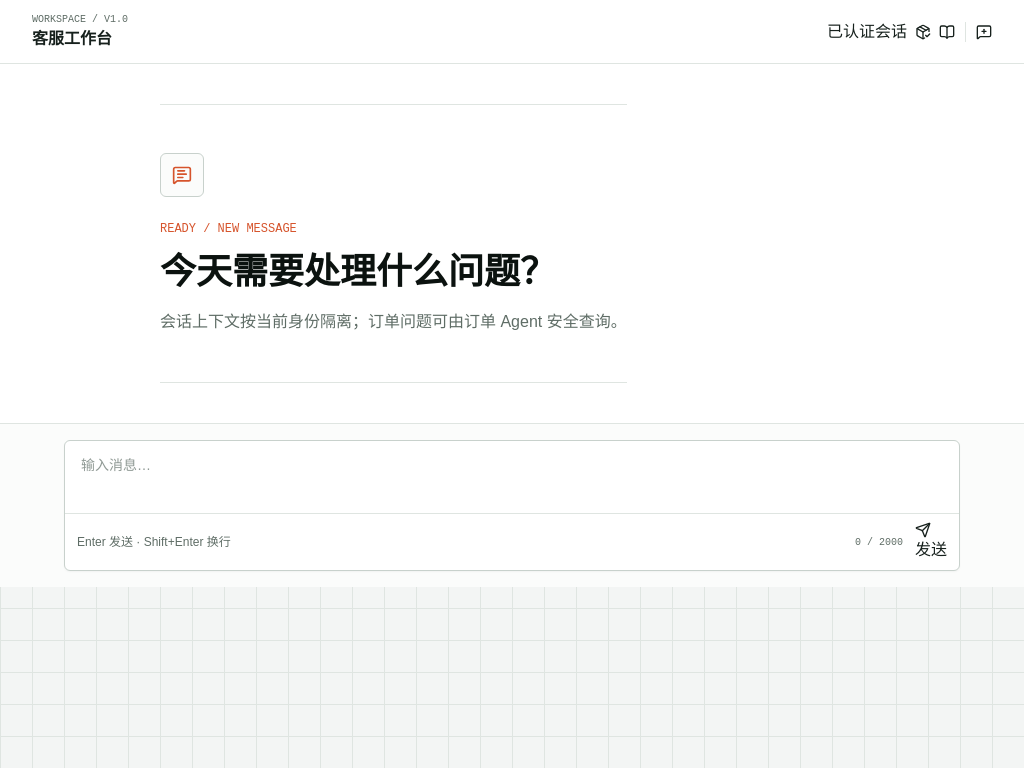
it: ChatWorkspace › disables the composer and prevents duplicate submits while loading
This screenshot has width=1024, height=768.
Type "测试加载状态" into the text box labelled "输入消息".
click(512, 477); type("测试加载状态")  # box [65,441,959,513]
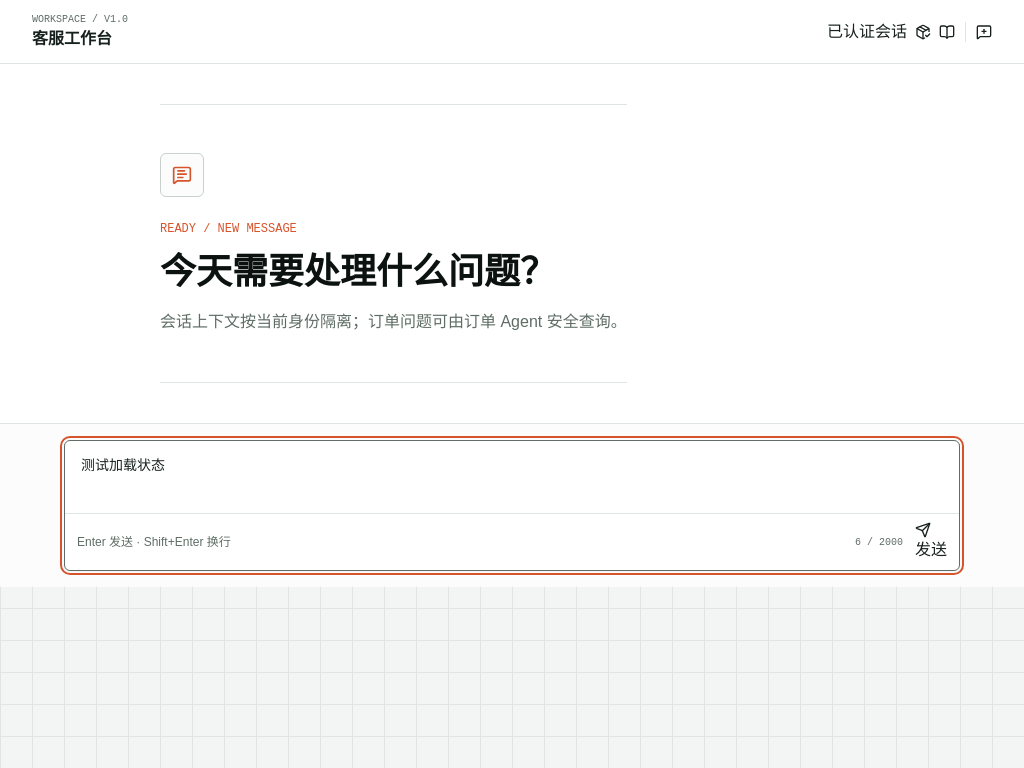
Click the button with aria-label "发送消息".
click(931, 542)  # box [915,522,947,562]
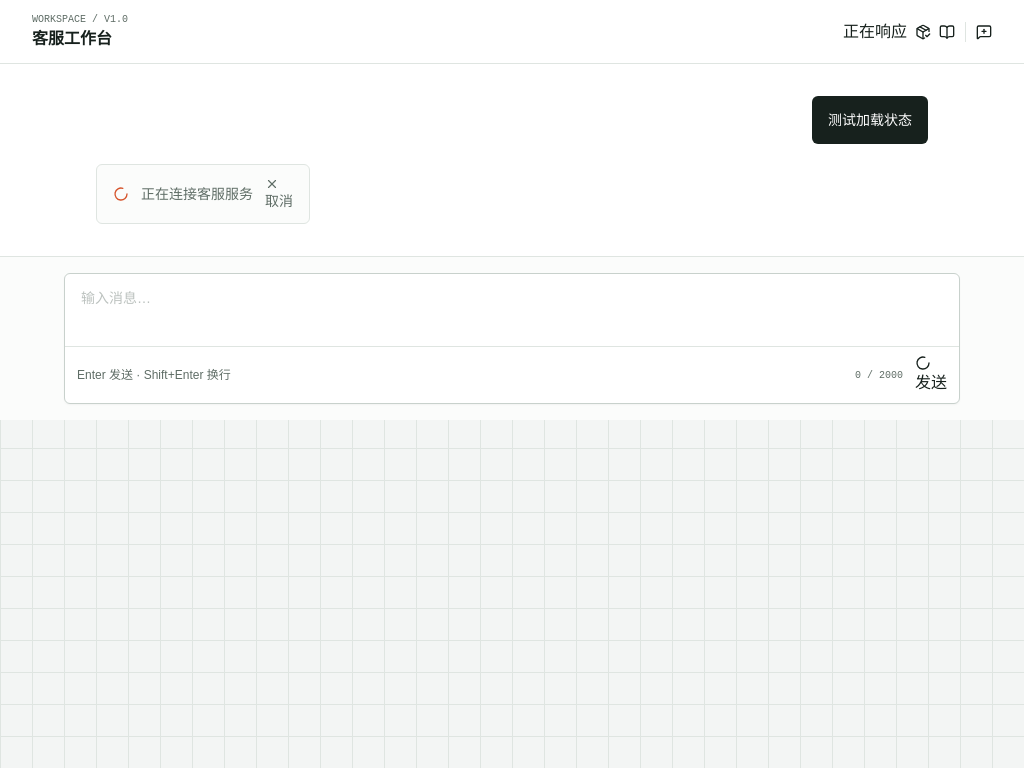
Expected: the text box labelled "输入消息" is disabled, [65,274,959,346]
Expected: the button with aria-label "发送消息" is disabled, [915,355,947,395]
Expected: the message shows "正在连接客服服务", [141,186,253,202]
Press Enter
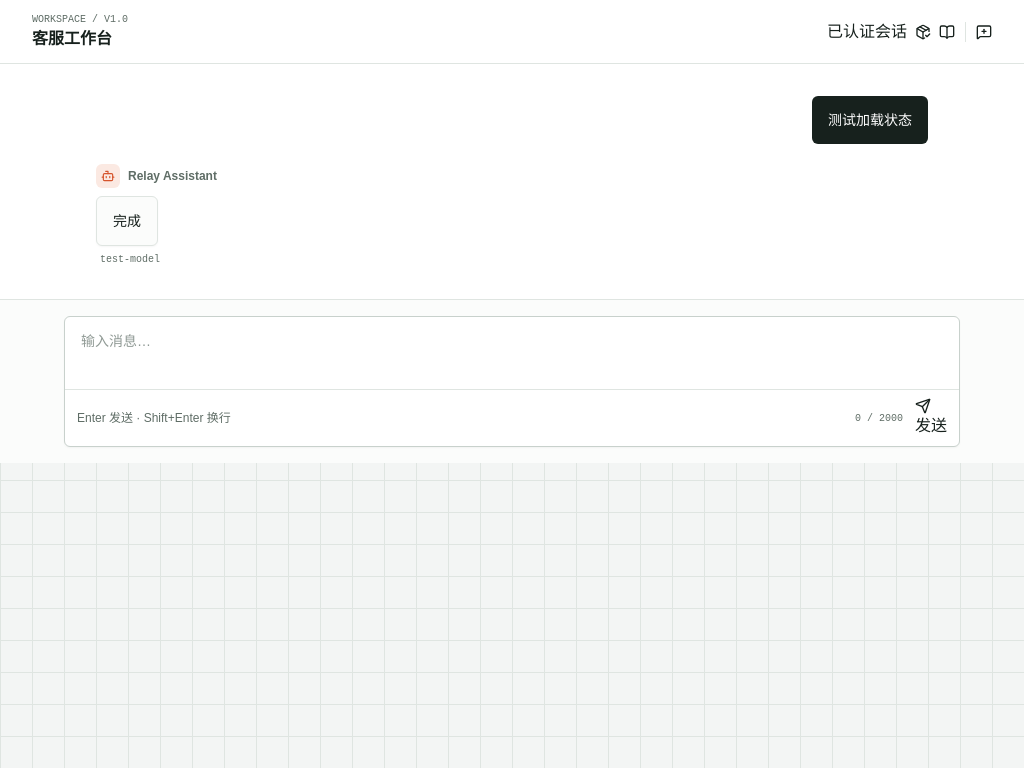
Expected: the text "完成" is shown, [96,196,158,246]
